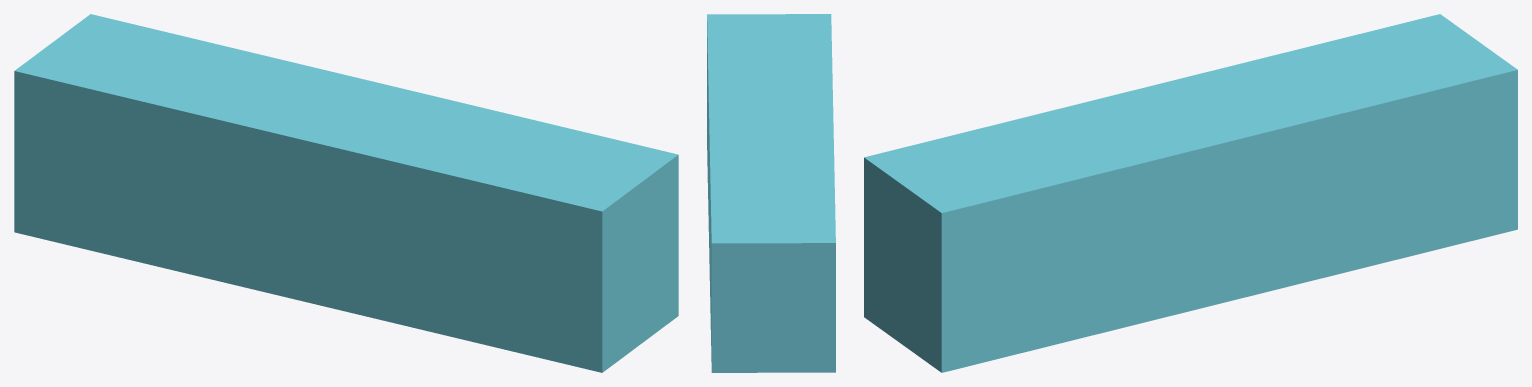
File: tutorial_grapple1.fbx
3 views of the same model, side by side, from view 1: azimuth 30°, elevation 25°; view 2: azimuth 150°, elevation 25°; view 3: azimuth 270°, elevation 25° (orthographic). The views are drawn at different scales.
Parts seen in each view (by area): view 1: grapple1; view 2: grapple1; view 3: grapple1.
Boxes of the visible parts, box(x1,y1,x2,y2) form: grapple1: box(14, 14, 678, 372); grapple1: box(707, 14, 835, 372); grapple1: box(864, 14, 1517, 372).
Size of the model in its own units: 1.12 by 0.4185 by 1.55.
